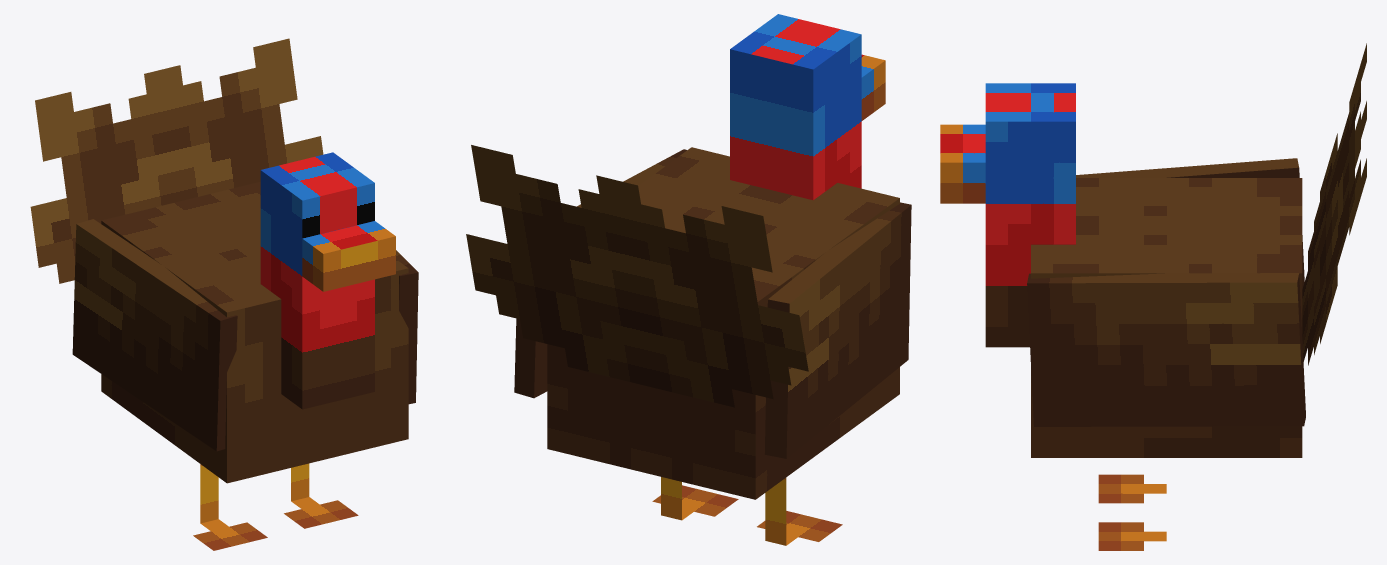
The model's file is turkey.glb.
3 views of the same model, side by side, from view 1: azimuth 30°, elevation 25°; view 2: azimuth 150°, elevation 25°; view 3: azimuth 270°, elevation 25° (orthographic). The views are drawn at different scales.
Visible parts, largest first — view 1: body_0, body_1, body_7, head_2, head_3, leg1_11, leg1_9, body_5; view 2: body_1, body_0, body_7, head_2, body_5, leg1_11, leg1_9, head_3; view 3: body_5, body_0, head_2, body_1, head_3, body_7, leg1_11, leg1_9.
Boxes of the visible parts, x1,y1,x2,y2 form: body_0: [101, 181, 408, 483]; body_1: [30, 38, 323, 283]; body_7: [72, 219, 237, 451]; head_2: [260, 152, 374, 409]; head_3: [302, 221, 395, 291]; leg1_11: [193, 464, 267, 550]; leg1_9: [284, 463, 358, 528]; body_5: [396, 250, 418, 404]; body_1: [466, 145, 808, 407]; body_0: [547, 147, 899, 499]; body_7: [764, 202, 911, 458]; head_2: [730, 14, 861, 200]; body_5: [514, 149, 686, 398]; leg1_11: [757, 478, 842, 545]; leg1_9: [652, 477, 738, 520]; head_3: [861, 54, 885, 120]; body_5: [1027, 273, 1305, 426]; body_0: [1031, 178, 1302, 457]; head_2: [985, 83, 1075, 347]; body_1: [1302, 43, 1366, 365]; head_3: [940, 124, 985, 203]; body_7: [1076, 158, 1304, 288]; leg1_11: [1098, 474, 1166, 503]; leg1_9: [1098, 522, 1166, 550].
Size of the model in its own units: 1 by 1.29 by 1.19.
1 material, 1 textured.
